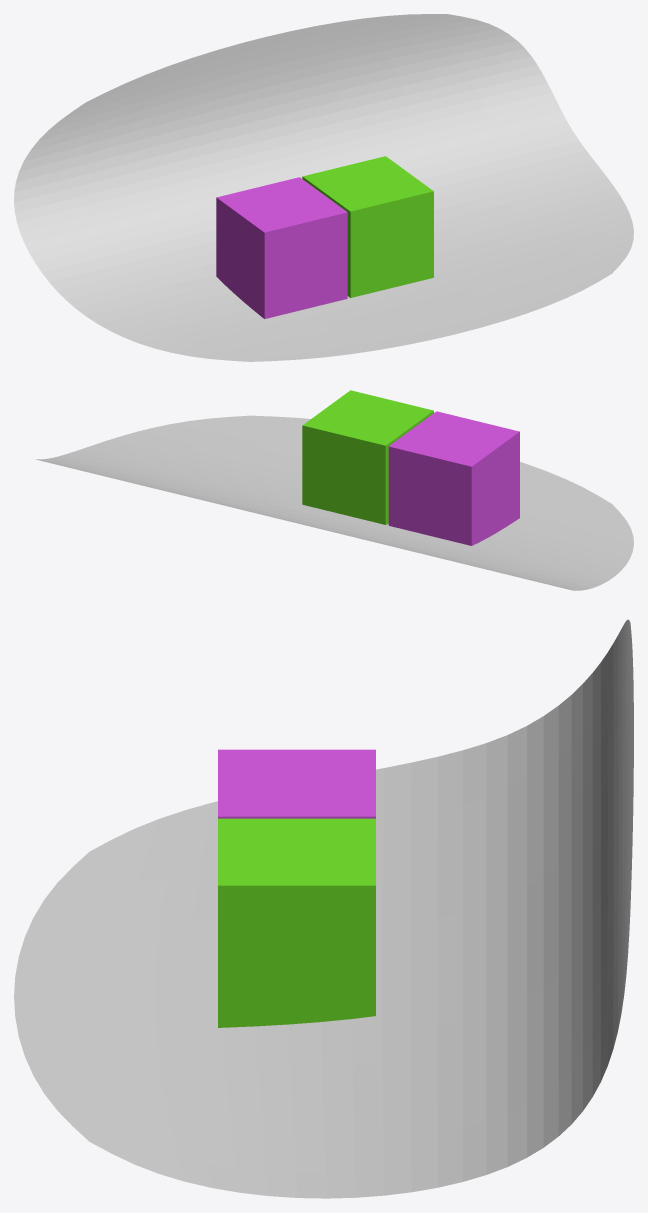
The picture shows the model from 3 angles, top to bottom: view 1: azimuth 30°, elevation 25°; view 2: azimuth 150°, elevation 25°; view 3: azimuth 270°, elevation 25°; orthographic projection. The views are drawn at different scales.
Parts seen in each view (by area): view 1: Plane, Cube.001, Cube; view 2: Plane, Cube.001, Cube; view 3: Plane, Cube, Cube.001.
Boxes of the visible parts, box(x1,y1,x2,y2) form: Plane: box(14, 14, 633, 361); Cube.001: box(216, 177, 347, 318); Cube: box(302, 156, 433, 297); Plane: box(35, 415, 633, 590); Cube.001: box(388, 411, 519, 545); Cube: box(302, 390, 433, 524); Plane: box(14, 619, 633, 1198); Cube: box(218, 818, 375, 1027); Cube.001: box(218, 749, 375, 818).
Size of the model in its own units: 12.92 by 3.67 by 7.83.
